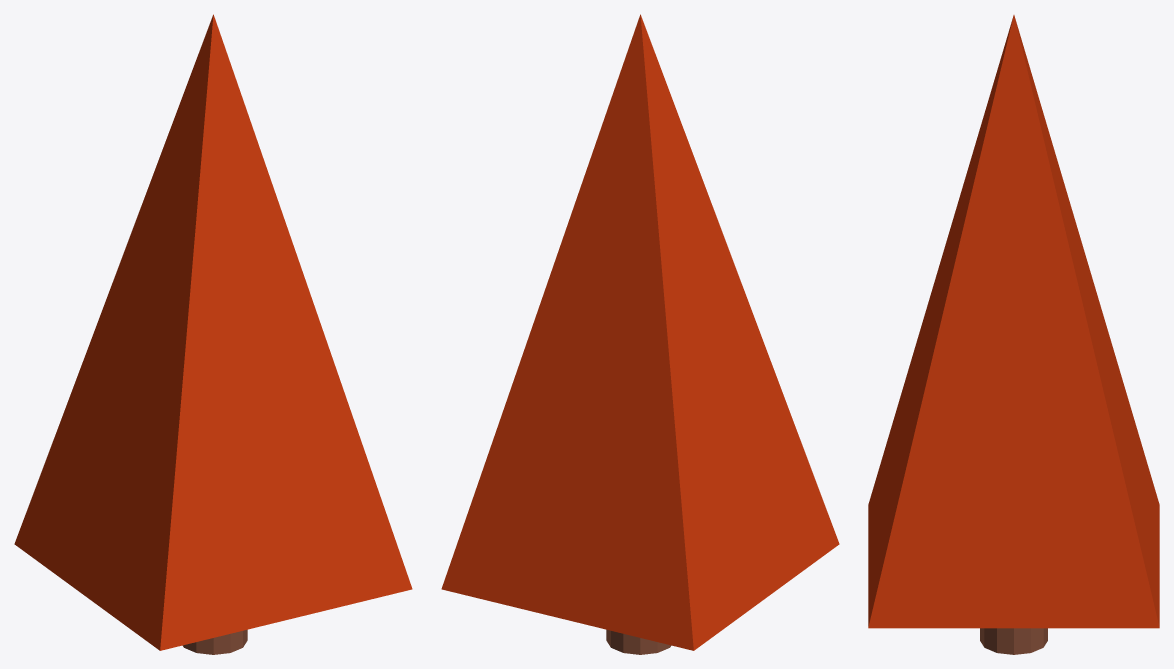
File: Tree_36_summer_red_pal.fbx
3 views of the same model, side by side, from view 1: azimuth 30°, elevation 25°; view 2: azimuth 150°, elevation 25°; view 3: azimuth 270°, elevation 25° (orthographic).
Parts seen in each view (by area): view 1: Tree_36_summer_red_pal; view 2: Tree_36_summer_red_pal; view 3: Tree_36_summer_red_pal.
Boxes of the visible parts, <box> form: Tree_36_summer_red_pal: <box>14,14,412,654</box>; Tree_36_summer_red_pal: <box>441,14,839,654</box>; Tree_36_summer_red_pal: <box>868,15,1159,654</box>.
Size of the model in its own units: 69.07 by 164 by 69.07.
